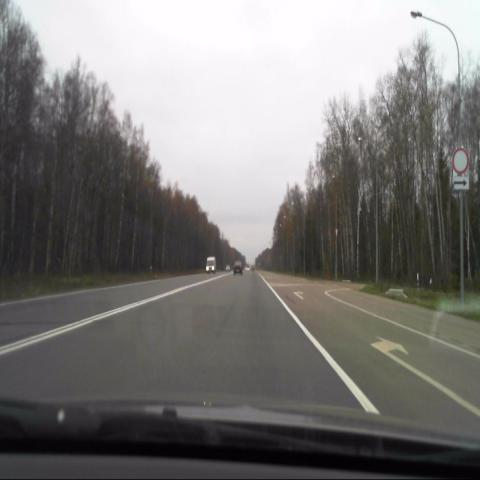3_2: (451, 147, 469, 174)
8_3_1: (451, 176, 470, 191)
